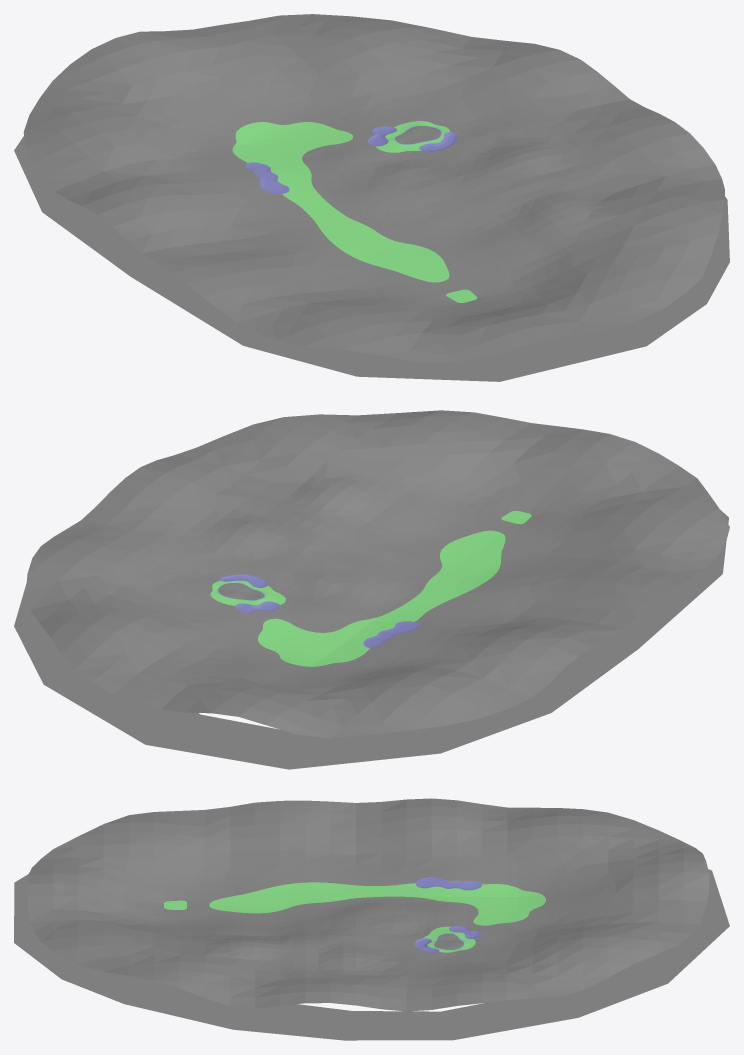
The model's file is glf_course_fc12.glb.
The picture shows the model from 3 angles, top to bottom: view 1: azimuth 30°, elevation 25°; view 2: azimuth 150°, elevation 25°; view 3: azimuth 270°, elevation 25°; orthographic projection. The views are drawn at different scales.
Visible parts, largest first — view 1: collision_0x0004, collision_0x0002, collision_0x0005, collision_0x0001, collision_0x0003, collision_0x0006; view 2: collision_0x0004, collision_0x0002, collision_0x0005, collision_0x0001, collision_0x0003, collision_0x0006; view 3: collision_0x0004, collision_0x0005, collision_0x0002, collision_0x0001, collision_0x0003.
Boxes of the visible parts, x1=… form: collision_0x0004: x1=23, y1=14, x2=724, y2=363; collision_0x0002: x1=184, y1=88, x2=521, y2=317; collision_0x0005: x1=14, y1=136, x2=729, y2=381; collision_0x0001: x1=232, y1=121, x2=477, y2=302; collision_0x0003: x1=245, y1=126, x2=457, y2=194; collision_0x0006: x1=395, y1=126, x2=441, y2=144; collision_0x0004: x1=26, y1=410, x2=729, y2=738; collision_0x0002: x1=177, y1=478, x2=585, y2=683; collision_0x0005: x1=14, y1=509, x2=728, y2=769; collision_0x0001: x1=210, y1=511, x2=531, y2=666; collision_0x0003: x1=219, y1=574, x2=419, y2=647; collision_0x0006: x1=218, y1=583, x2=264, y2=600; collision_0x0004: x1=28, y1=798, x2=709, y2=1011; collision_0x0005: x1=14, y1=869, x2=729, y2=1040; collision_0x0002: x1=112, y1=862, x2=599, y2=965; collision_0x0001: x1=163, y1=882, x2=545, y2=952; collision_0x0003: x1=414, y1=877, x2=481, y2=953.
Size of the model in its own units: 4270 by 281 by 5675.
